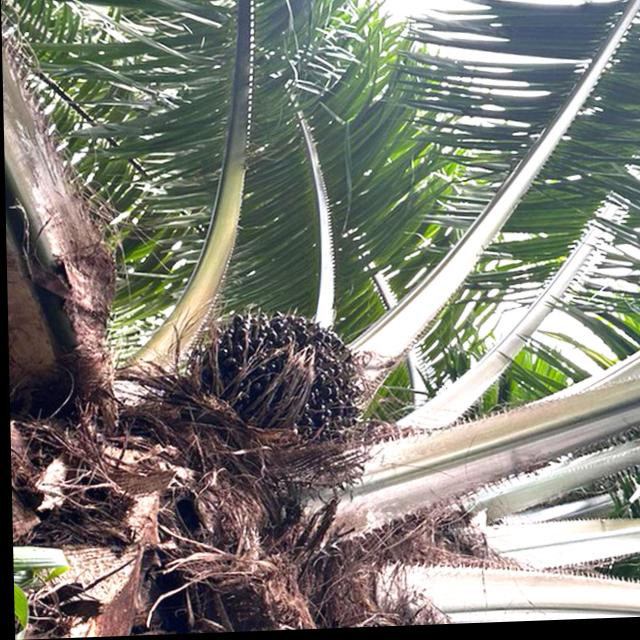unripe: (176, 302, 380, 470)
